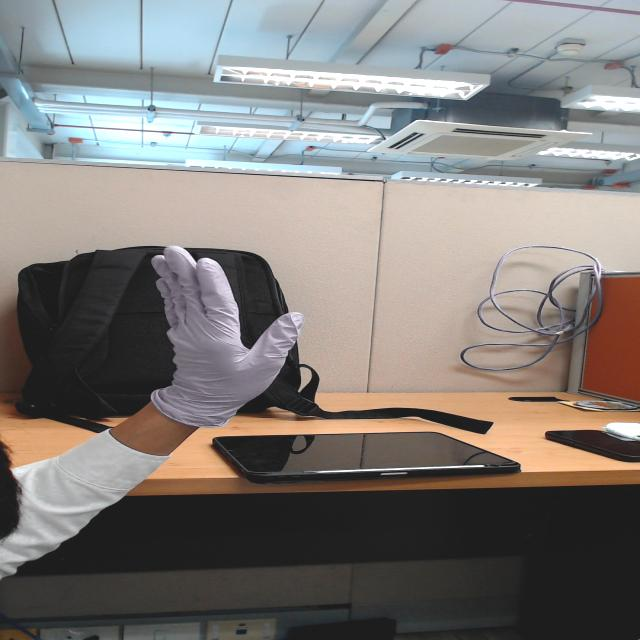glove: (133, 240, 337, 382)
